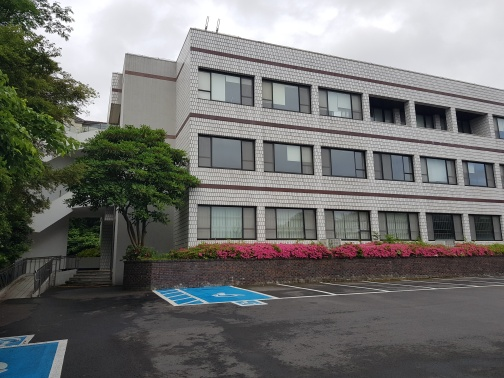Foreign Language Institute: (103, 24, 504, 290), (191, 200, 470, 268), (194, 129, 417, 194), (194, 57, 368, 129)
